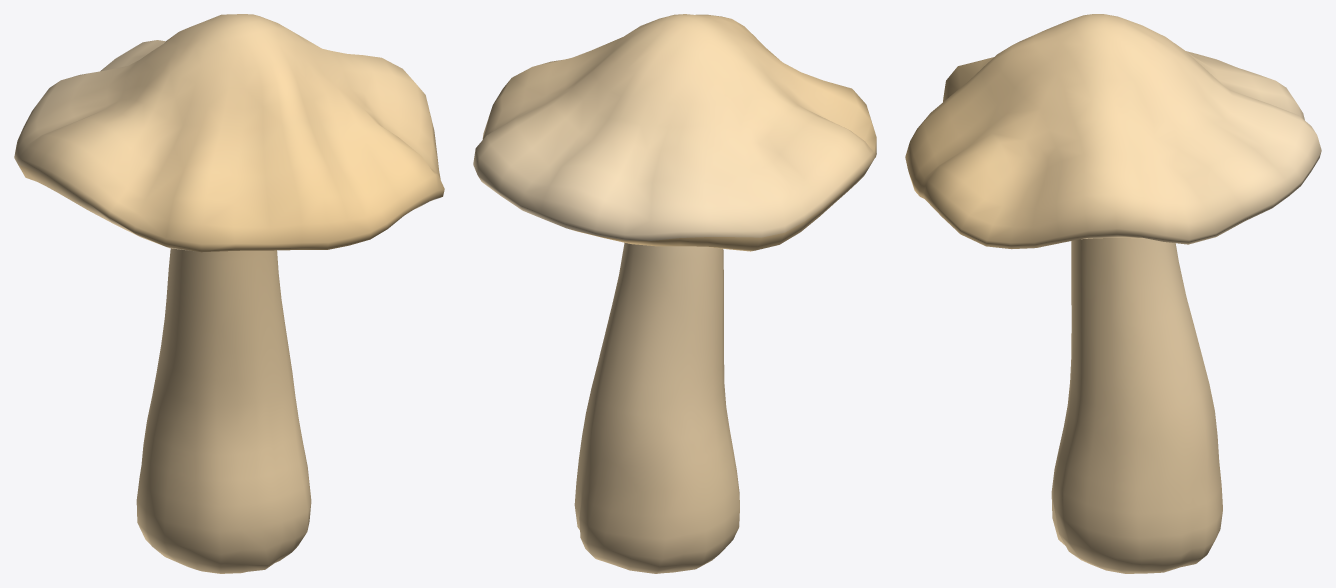
The model's file is mushroom 07.fbx.
The picture shows the model from 3 angles, left to right: view 1: azimuth 30°, elevation 25°; view 2: azimuth 150°, elevation 25°; view 3: azimuth 270°, elevation 25°; orthographic projection. The views are drawn at different scales.
Parts seen in each view (by area): view 1: Mushroom_0001_0007; view 2: Mushroom_0001_0007; view 3: Mushroom_0001_0007.
Boxes of the visible parts, x1=… form: Mushroom_0001_0007: x1=14, y1=14, x2=444, y2=573; Mushroom_0001_0007: x1=473, y1=14, x2=876, y2=573; Mushroom_0001_0007: x1=905, y1=14, x2=1321, y2=573.
Size of the model in its own units: 16.79 by 23.88 by 16.69.
Materials: 1 (1 with a texture image).
